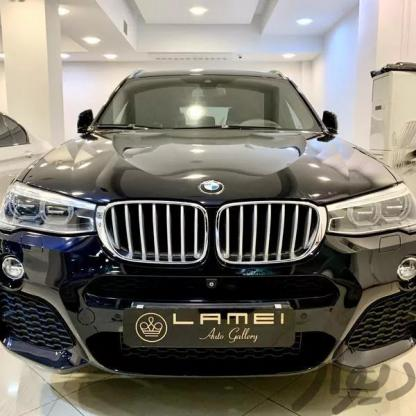Car: (0, 63, 416, 396)
